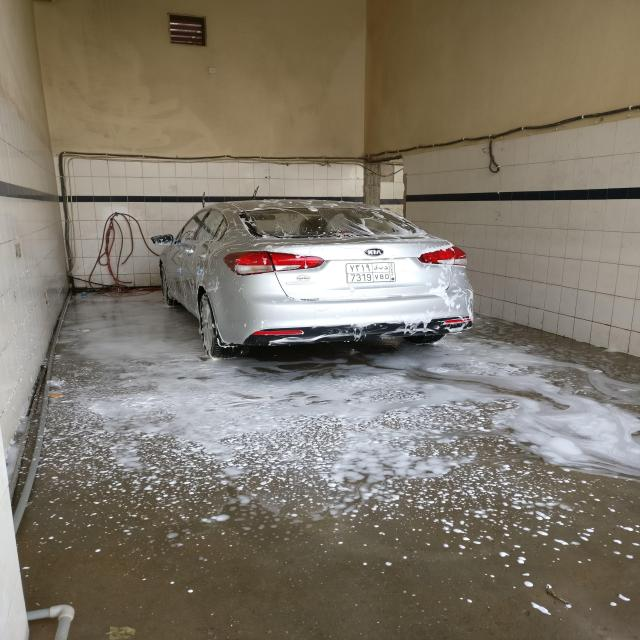license_plate: (344, 262, 396, 282)
